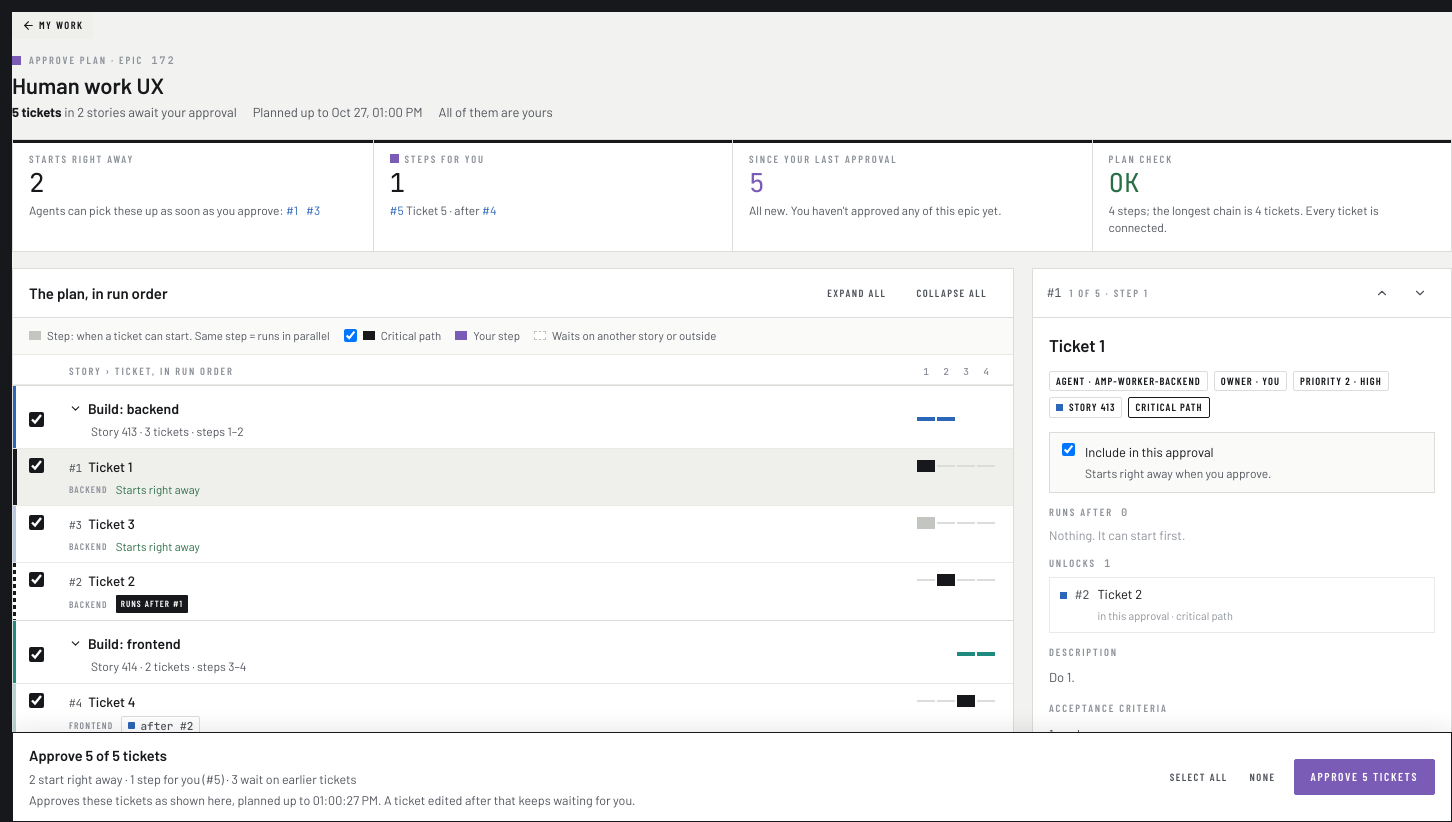
ApproveView › shows what leaving a ticket out holds, and can leave those out too
Step 1. Click the checkbox named "Approve #2" → (36, 580), box [29,572,44,587]
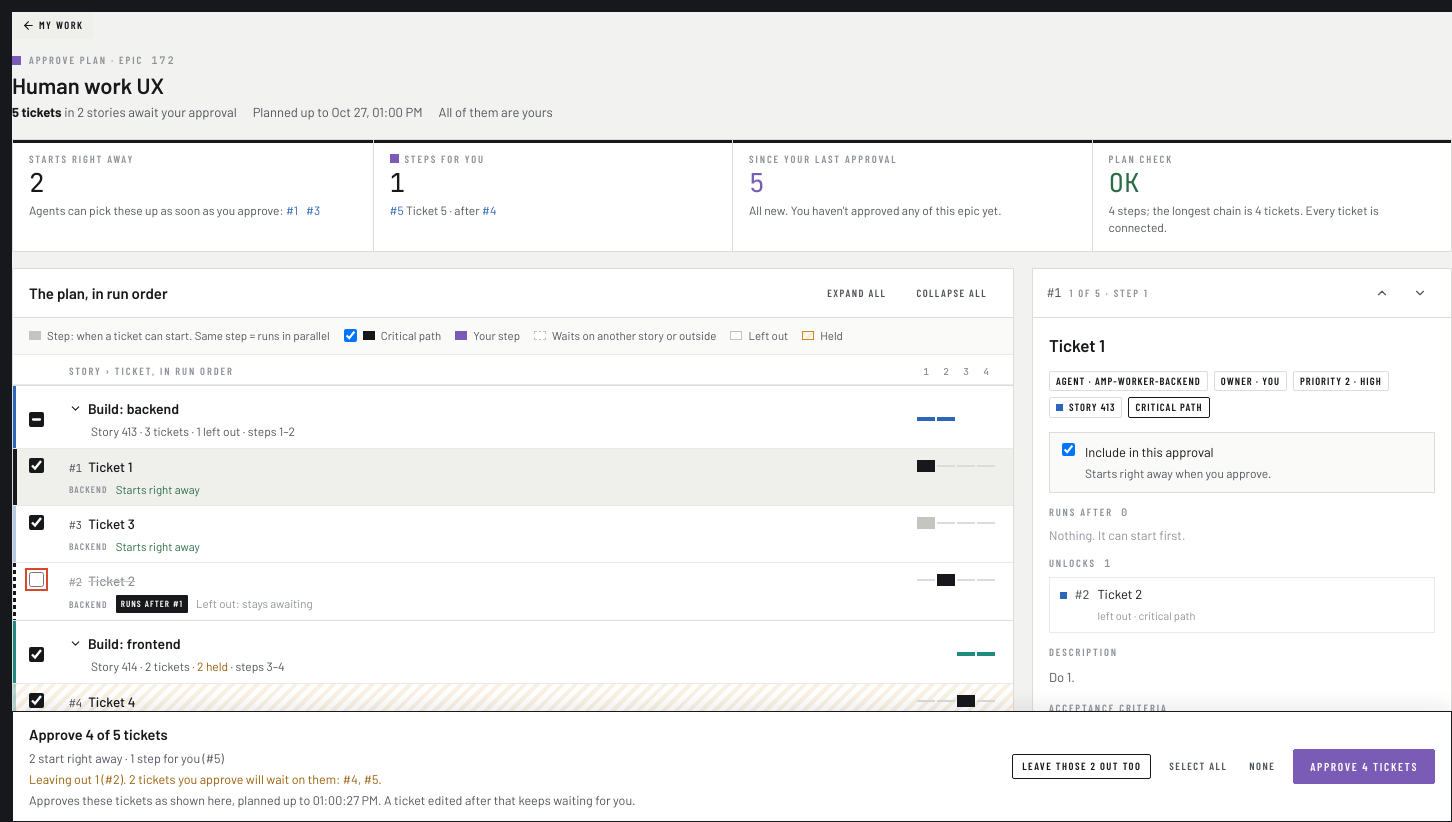
Now the text "Leaving out 1 (#2). 2 tickets you approve will wait on them: #4, #5." is shown, box [29,771,382,787]
Step 2. Click the button "Leave those 2 out too" → (1082, 766), box [1012,754,1151,779]
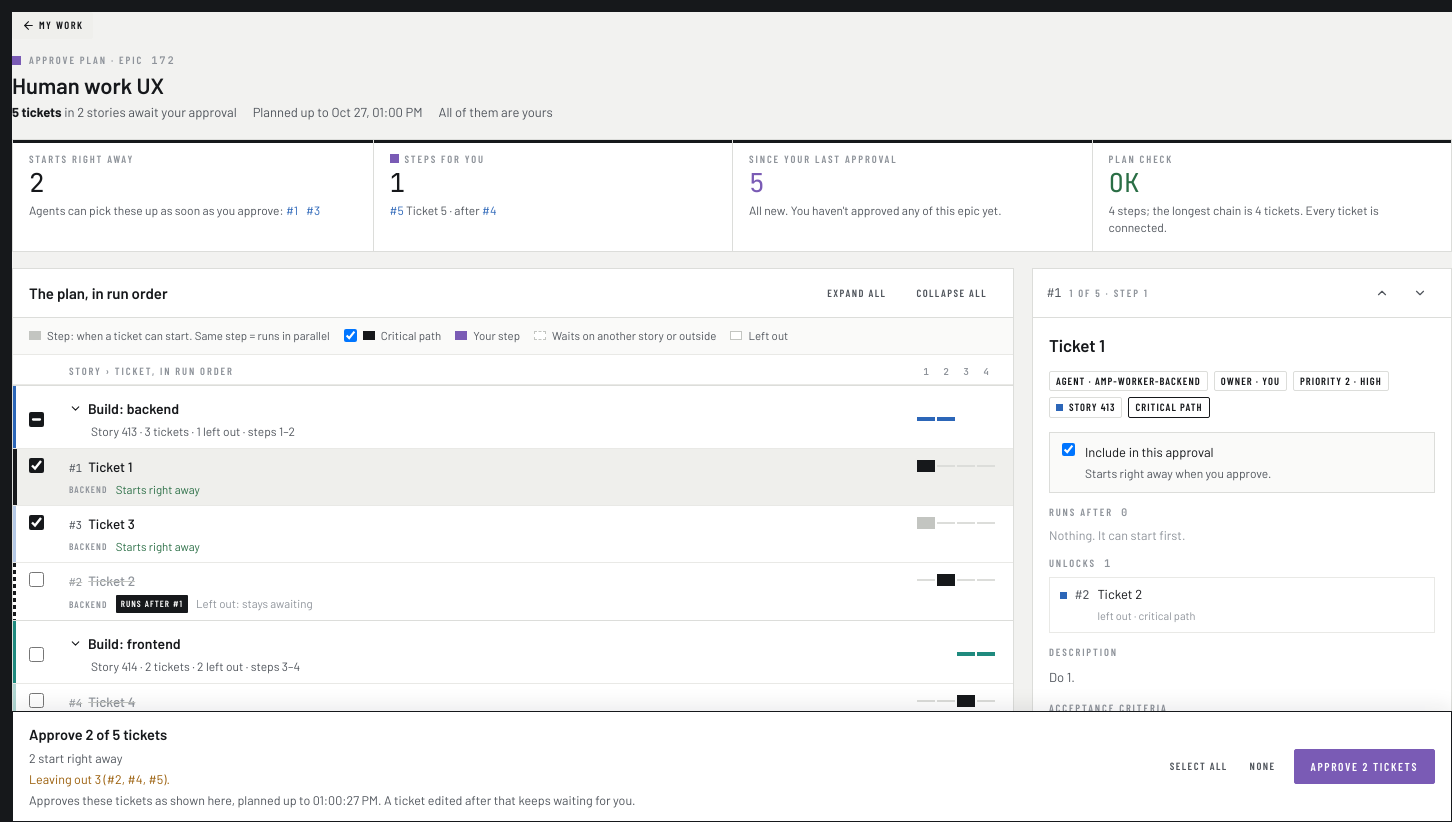
Now the text "Approve 2 of 5 tickets" is shown, box [29,725,167,743]
Now the checkbox named "Approve #4" is not checked, box [29,692,44,708]
